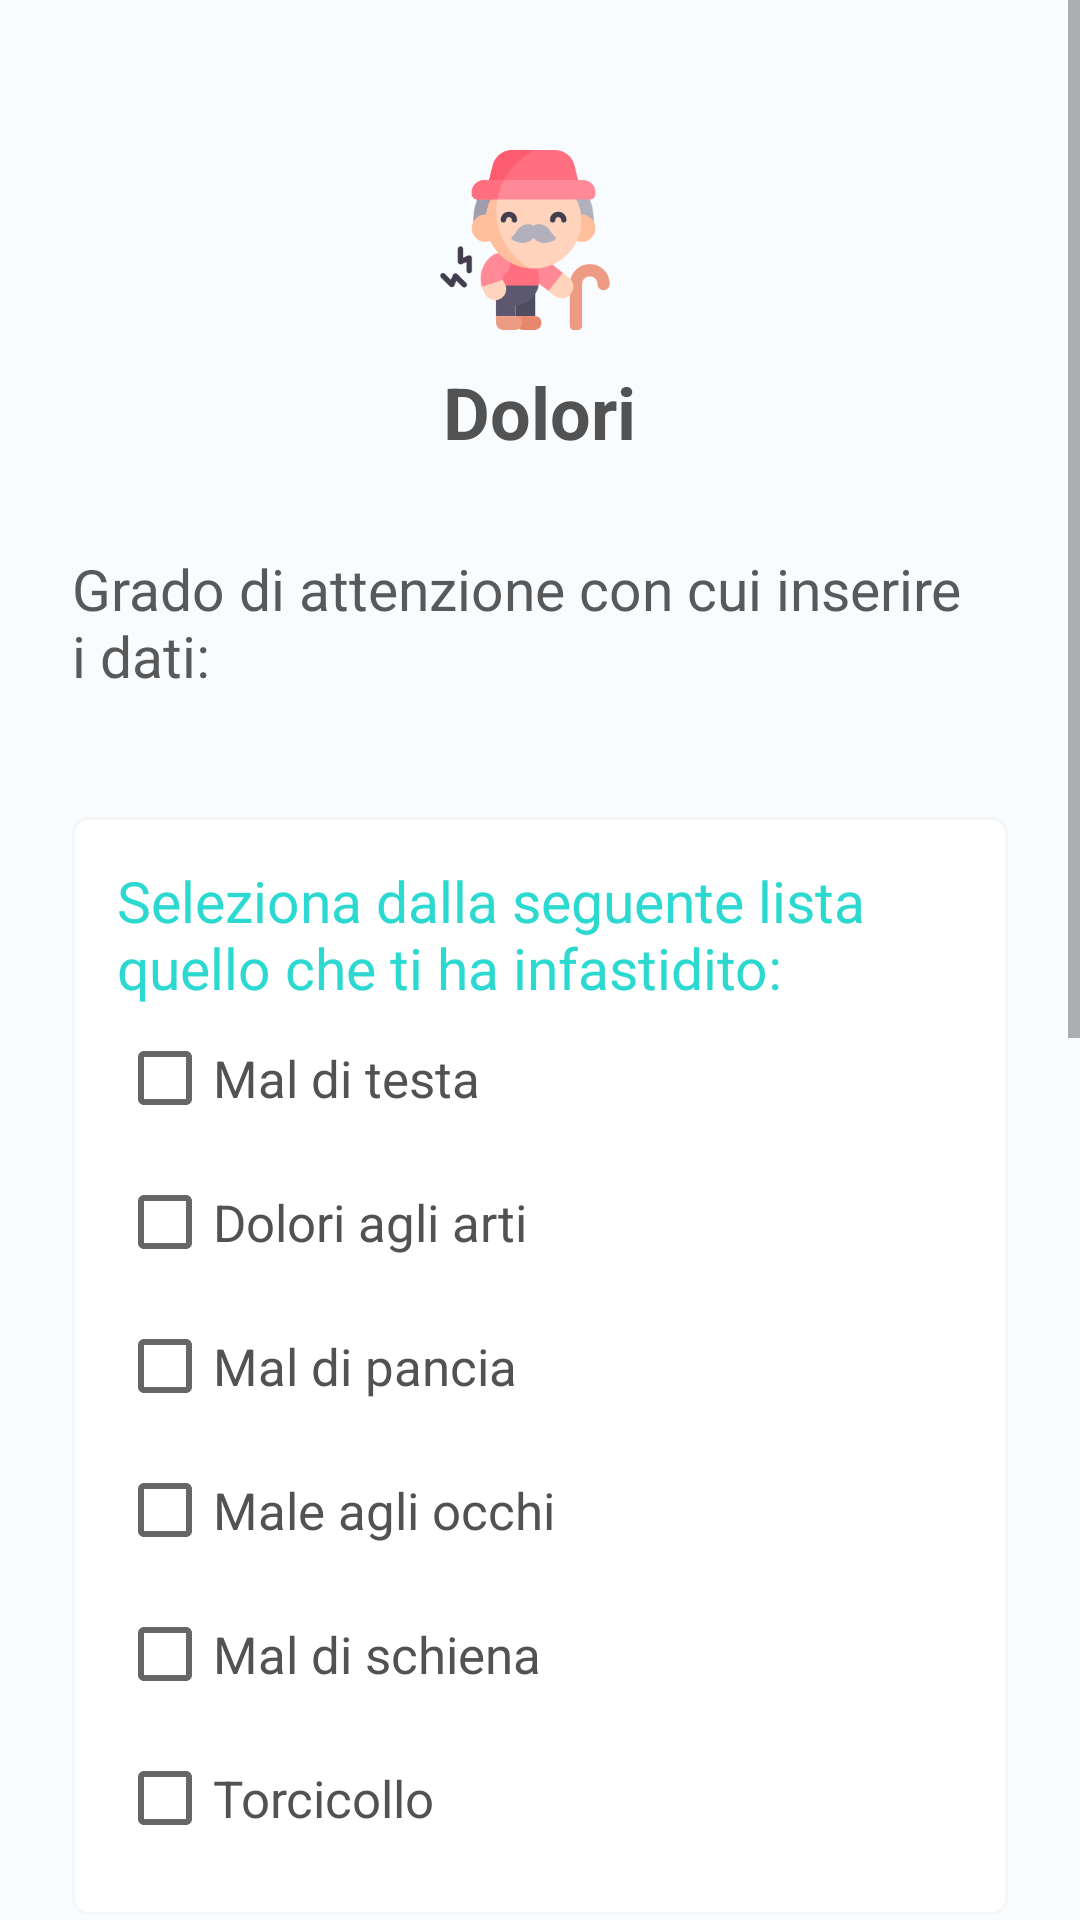

Screen size 1080px×1920px. Icon name, then its box in pixels as (x1, y1, x2, y2):
pain: (440, 150, 610, 330)
